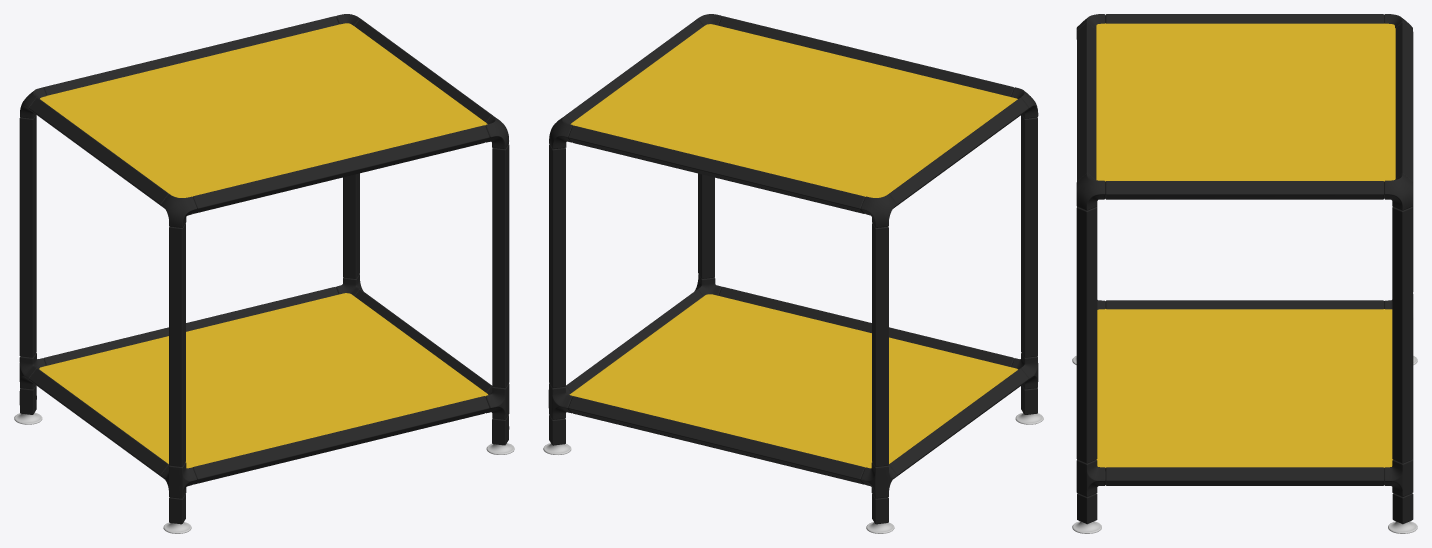
3 views of the same model, side by side, from view 1: azimuth 30°, elevation 25°; view 2: azimuth 150°, elevation 25°; view 3: azimuth 270°, elevation 25° (orthographic). The views are drawn at different scales.
Visible parts, largest first — view 1: 479x374x374; view 2: 479x374x374; view 3: 479x374x374.
Boxes of the visible parts, bbox=[...] form: 479x374x374: bbox=[14, 14, 514, 533]; 479x374x374: bbox=[543, 14, 1043, 533]; 479x374x374: bbox=[1072, 14, 1417, 533].
Size of the model in its own units: 0.5689 by 0.5132 by 0.4633.
